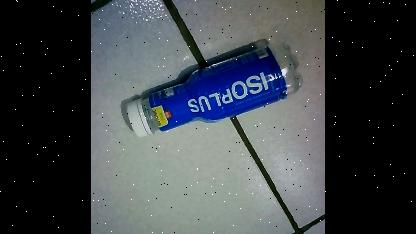Plastic Bottle: (125, 33, 308, 147)
